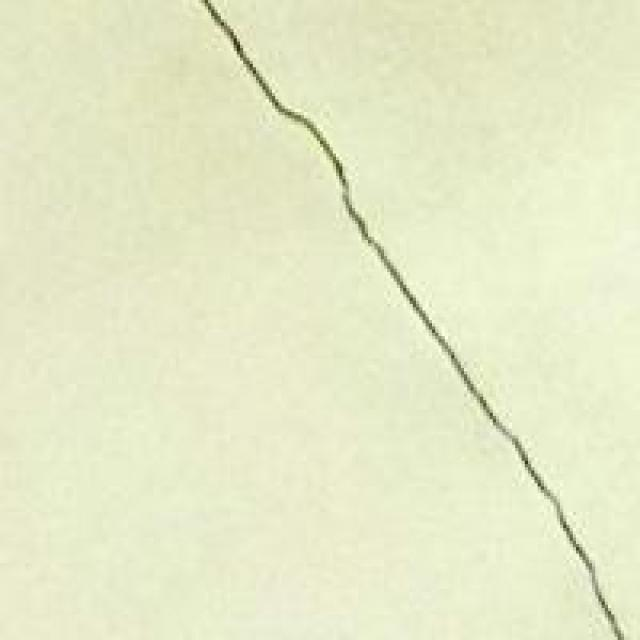crack: (169, 0, 636, 637)
